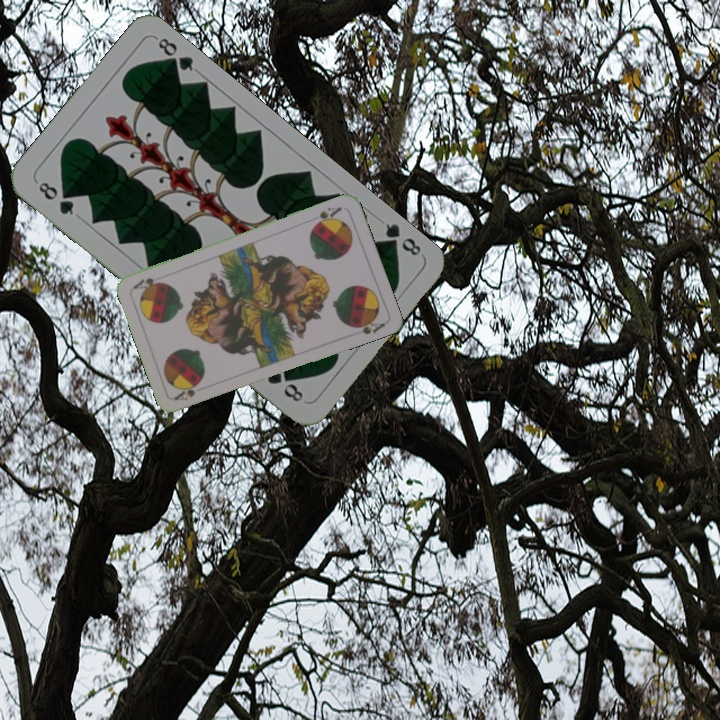G8: (378, 219, 424, 259), (34, 177, 77, 218)
SA: (309, 203, 344, 229), (170, 379, 202, 403)
